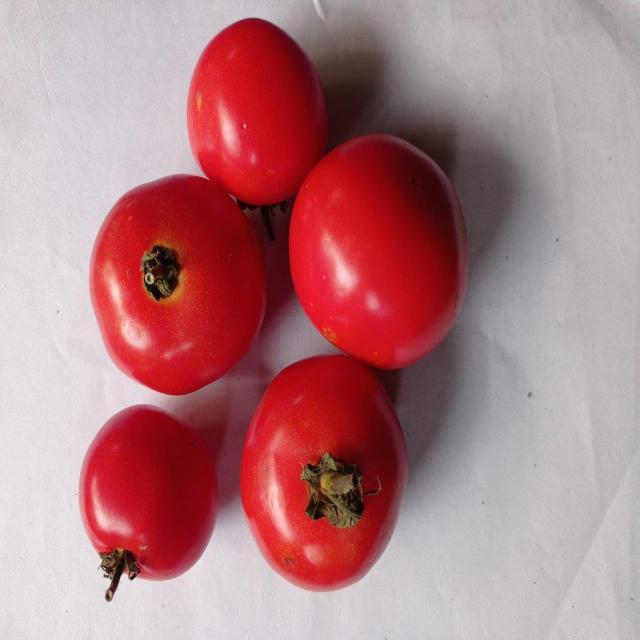Ripe: (288, 132, 472, 371), (239, 353, 411, 595), (86, 172, 268, 395), (185, 14, 333, 208), (74, 398, 218, 585)
